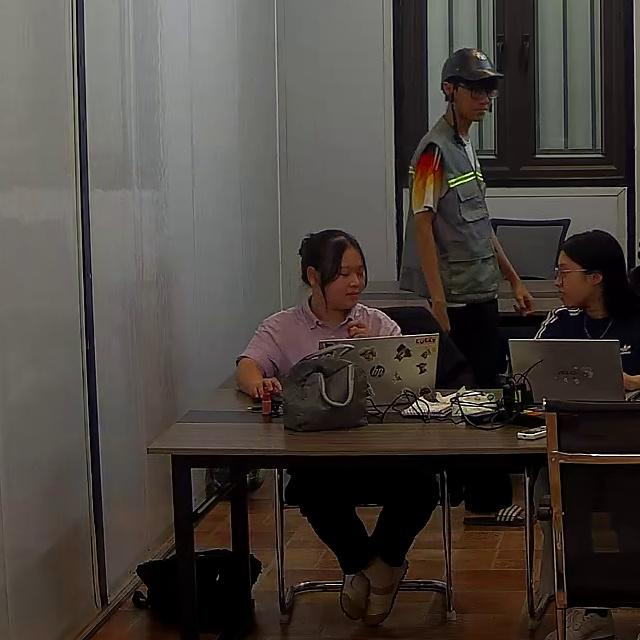helmet: (440, 47, 505, 86)
no_helmet: (559, 229, 637, 324), (297, 228, 365, 304)
none: (239, 294, 398, 384), (533, 302, 638, 384)
vest: (396, 117, 498, 302)
